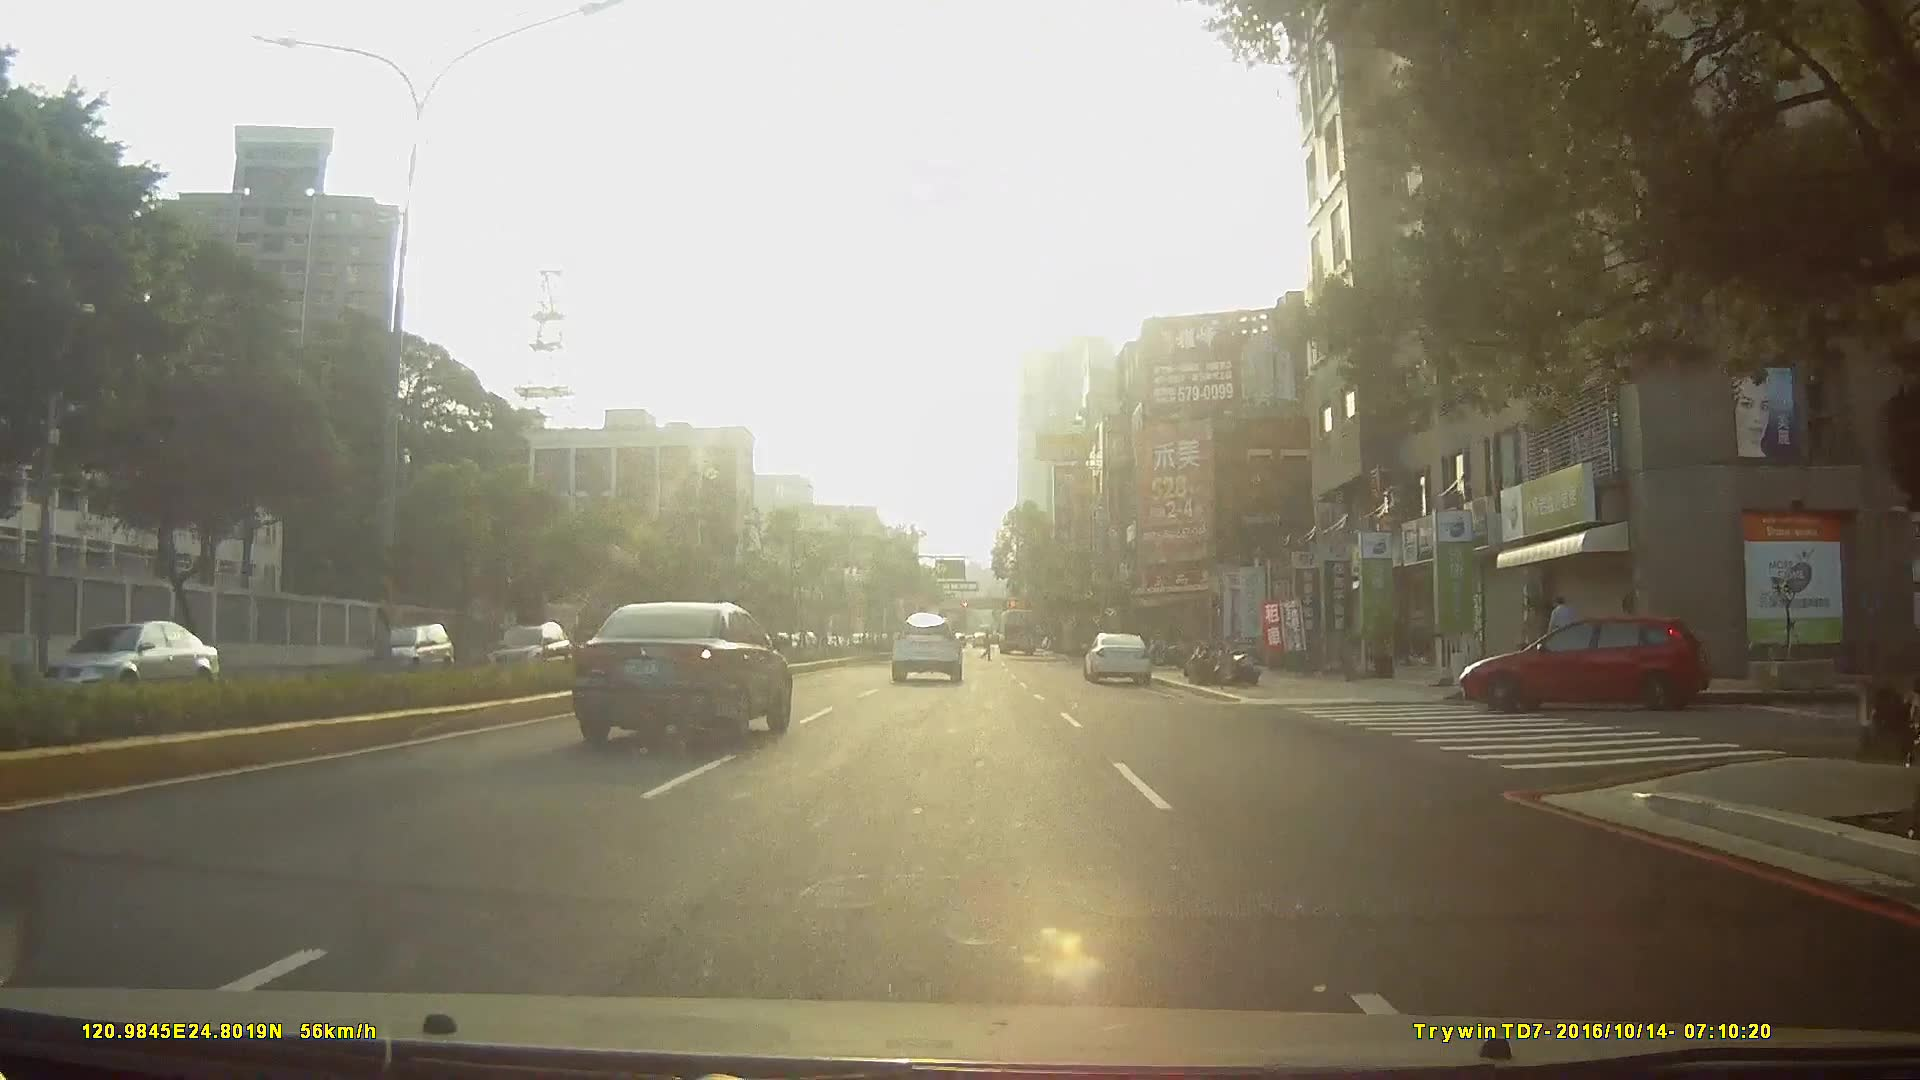pedestrian: (1547, 594, 1577, 669)
vehicle: (577, 597, 795, 741), (1451, 605, 1721, 714), (31, 615, 211, 702), (354, 610, 460, 673), (472, 620, 564, 679), (888, 611, 963, 682), (1082, 630, 1155, 683), (994, 607, 1038, 656)
